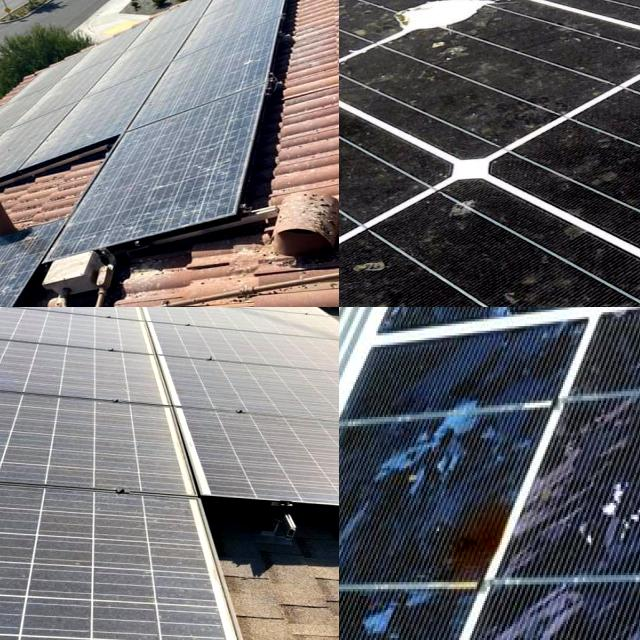bird: (379, 0, 484, 78)
dust: (88, 120, 246, 234), (0, 583, 219, 640), (0, 499, 192, 562), (0, 405, 151, 483), (155, 0, 261, 103), (26, 58, 116, 149), (0, 243, 65, 307), (0, 389, 49, 466), (0, 577, 26, 640), (0, 133, 27, 174)
shadow: (434, 487, 522, 605)
